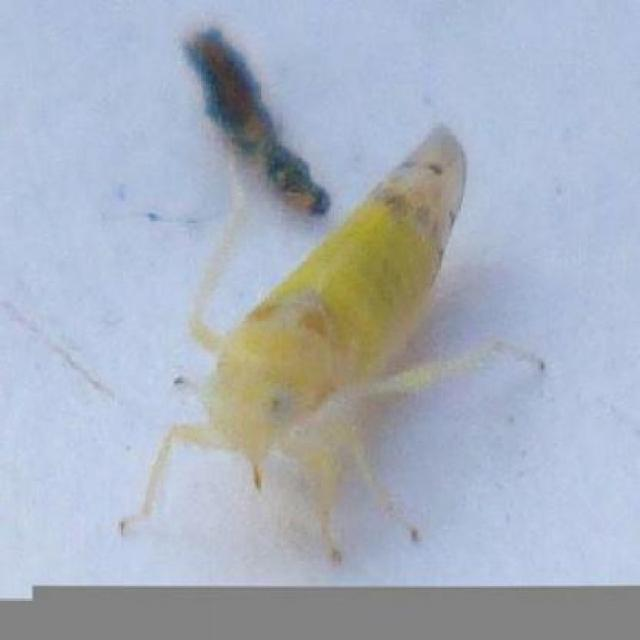green-leafhopper: (154, 127, 475, 516)
